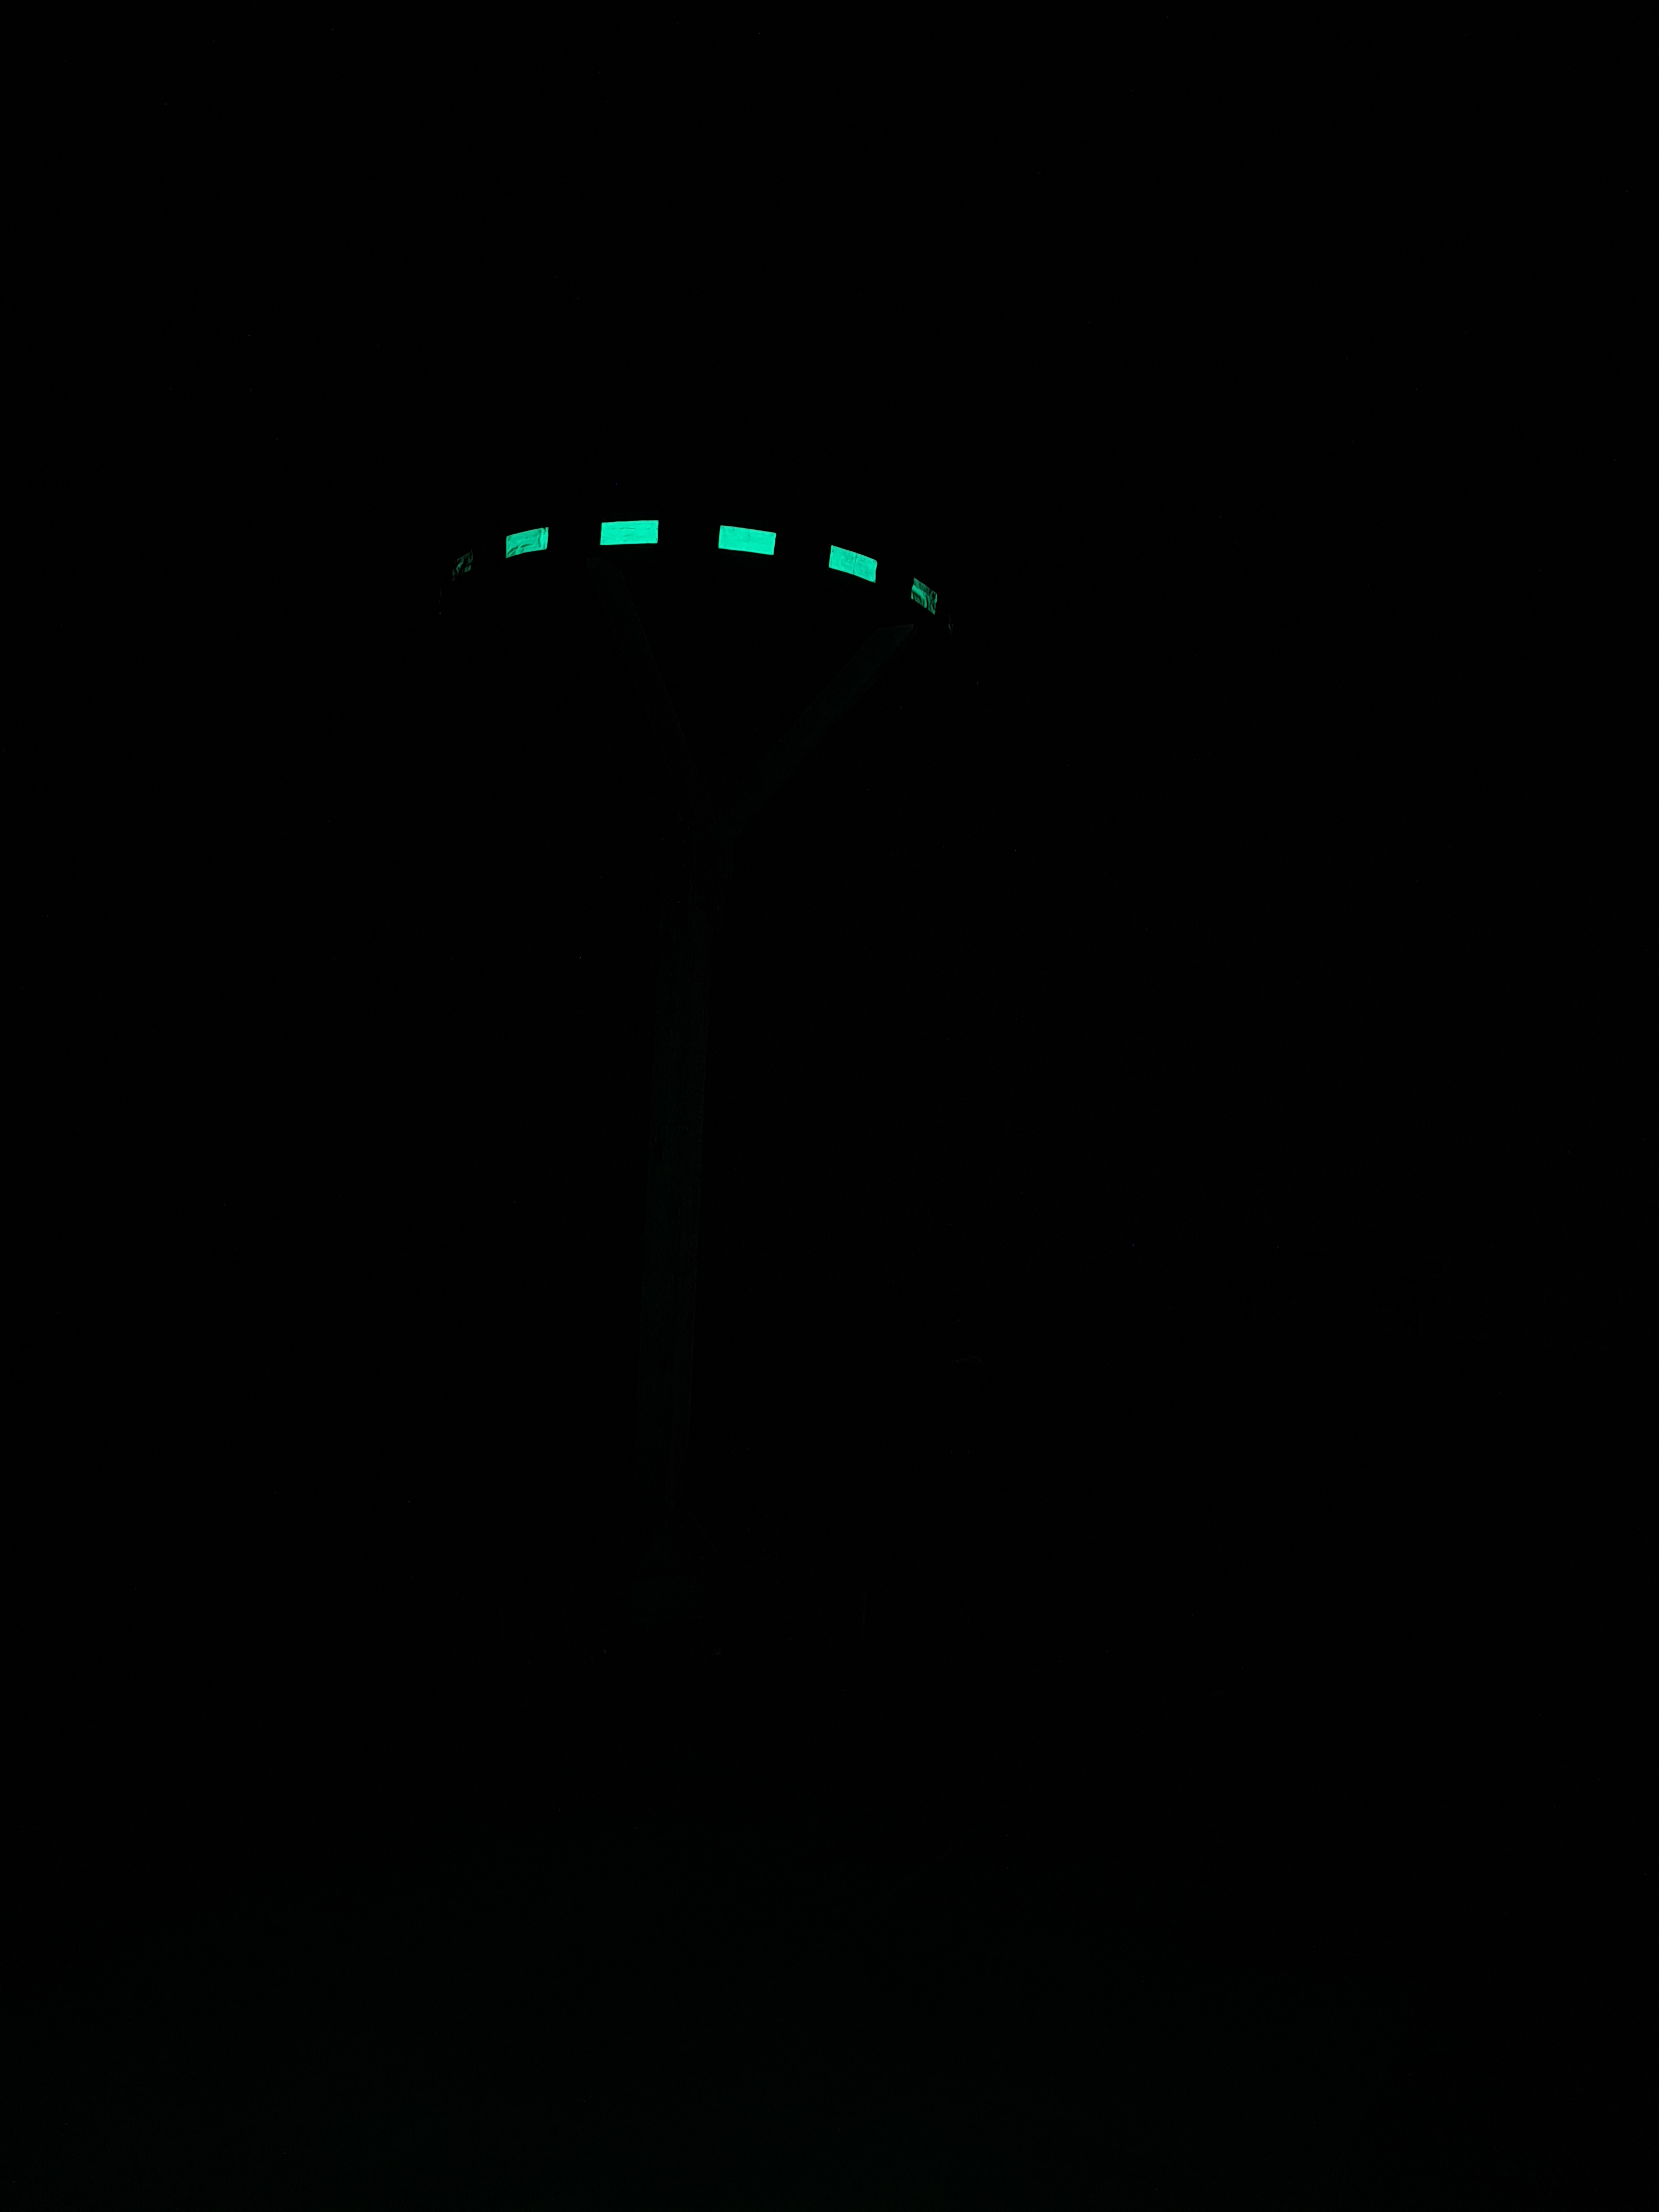hoop: (443, 503, 964, 657)
